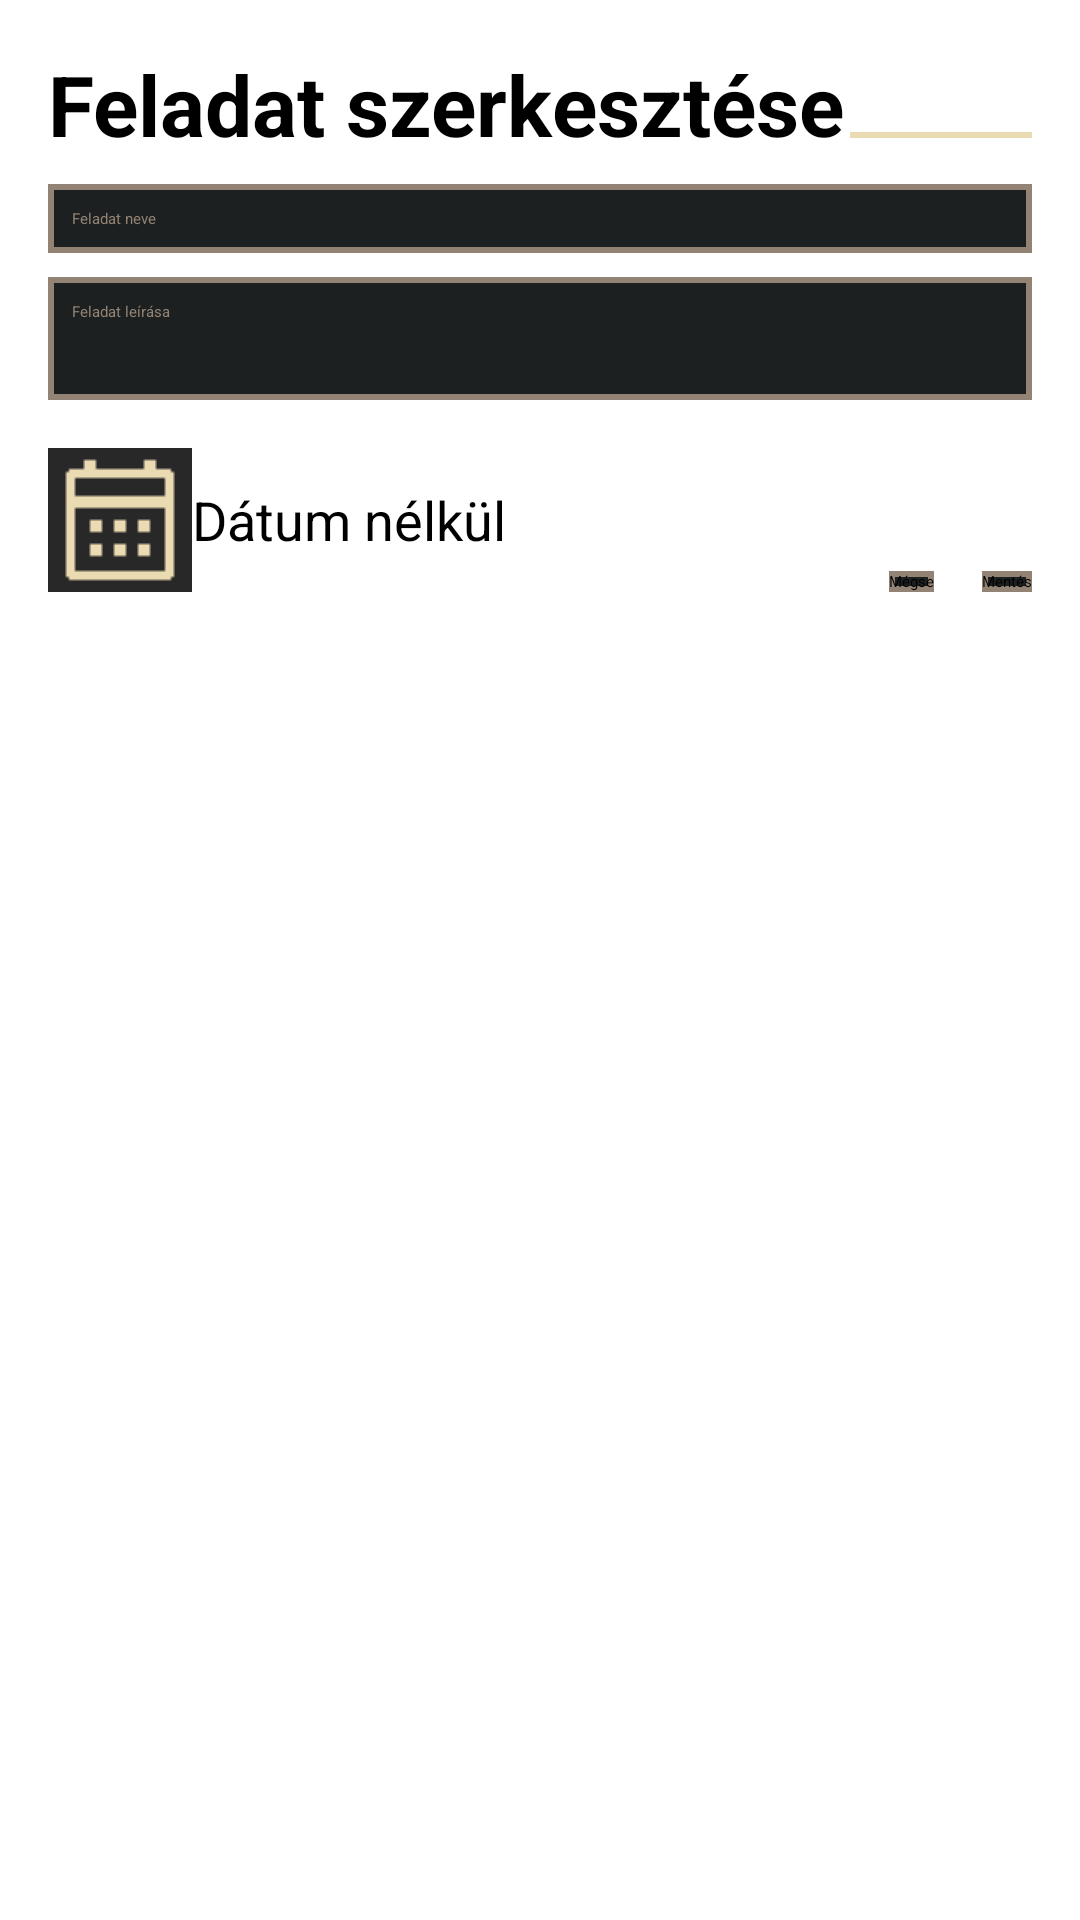

Point at icon controls on the screen. Image size 1080×1920, points as [x,y].
Dátum kiválasztó: [120,520]
